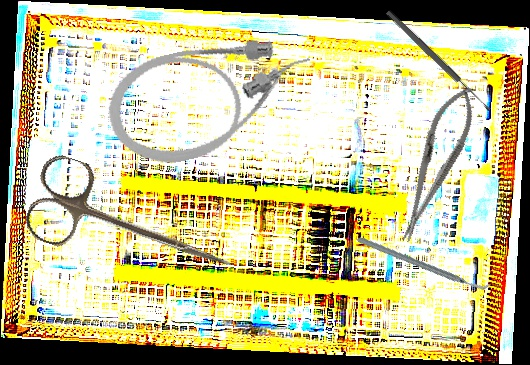Cannula: (97, 23, 326, 176)
Chopper: (356, 194, 493, 332)
Iris Scissors: (20, 150, 246, 302)
Needle Holder: (386, 79, 486, 248)
Surgical Spoon: (385, 9, 492, 113)
